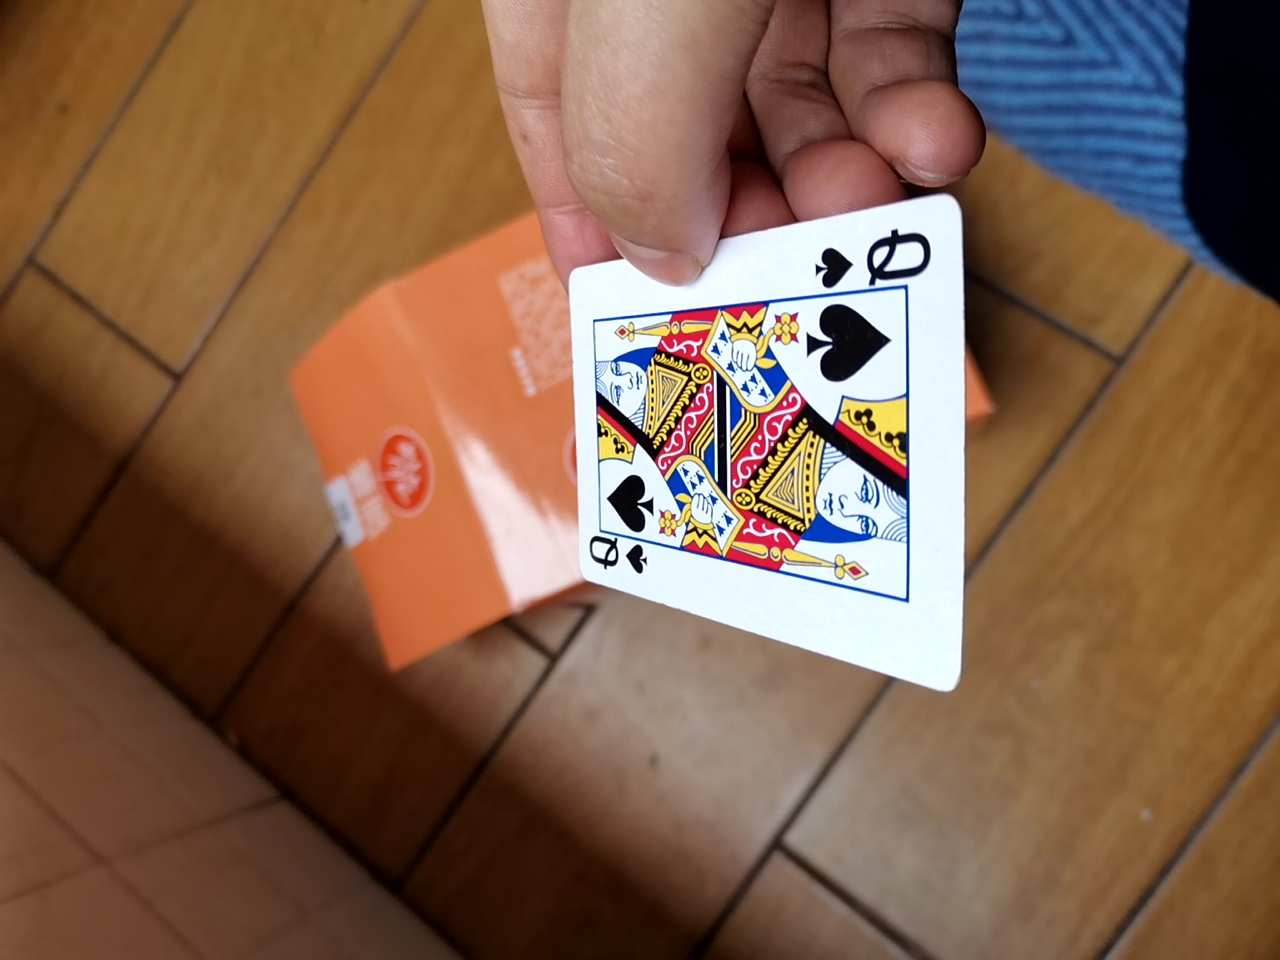ht q: (476, 199, 973, 668)
